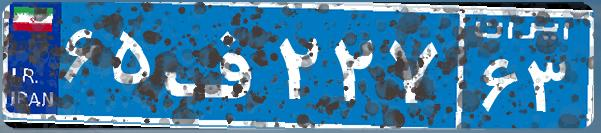2: (273, 28, 330, 110), (330, 28, 385, 110)
3: (525, 38, 570, 115)
5: (110, 28, 158, 105)
6: (57, 26, 110, 107), (475, 38, 525, 113)
7: (385, 28, 445, 110)
ف: (158, 15, 273, 115)
